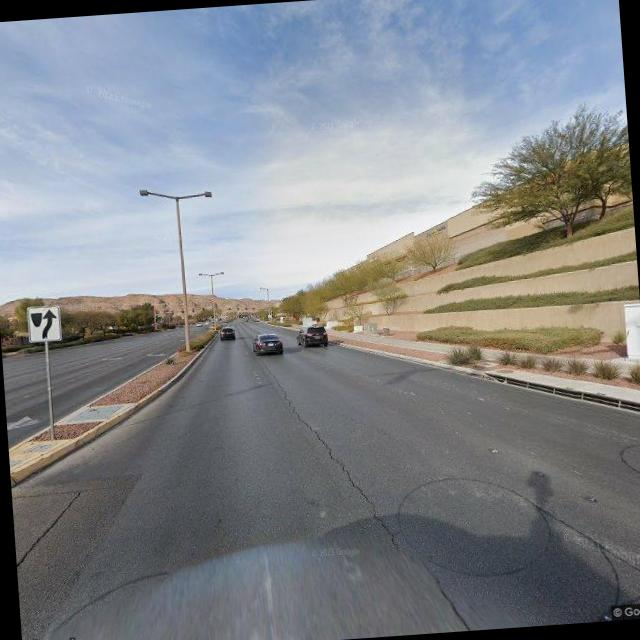pothole: (272, 370, 397, 551)
